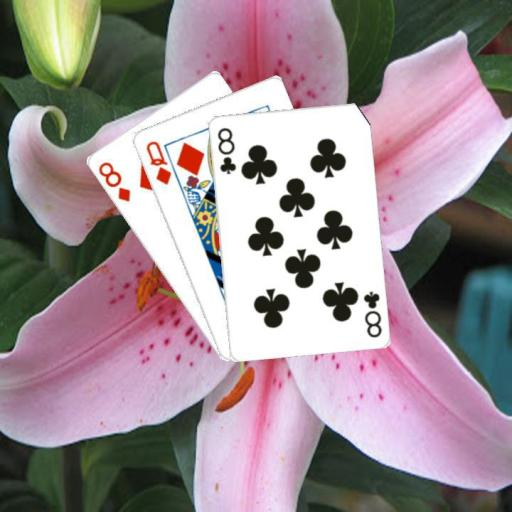8C: (214, 124, 238, 176), (360, 287, 383, 339)
8D: (95, 159, 132, 204)
QD: (142, 138, 173, 187)
